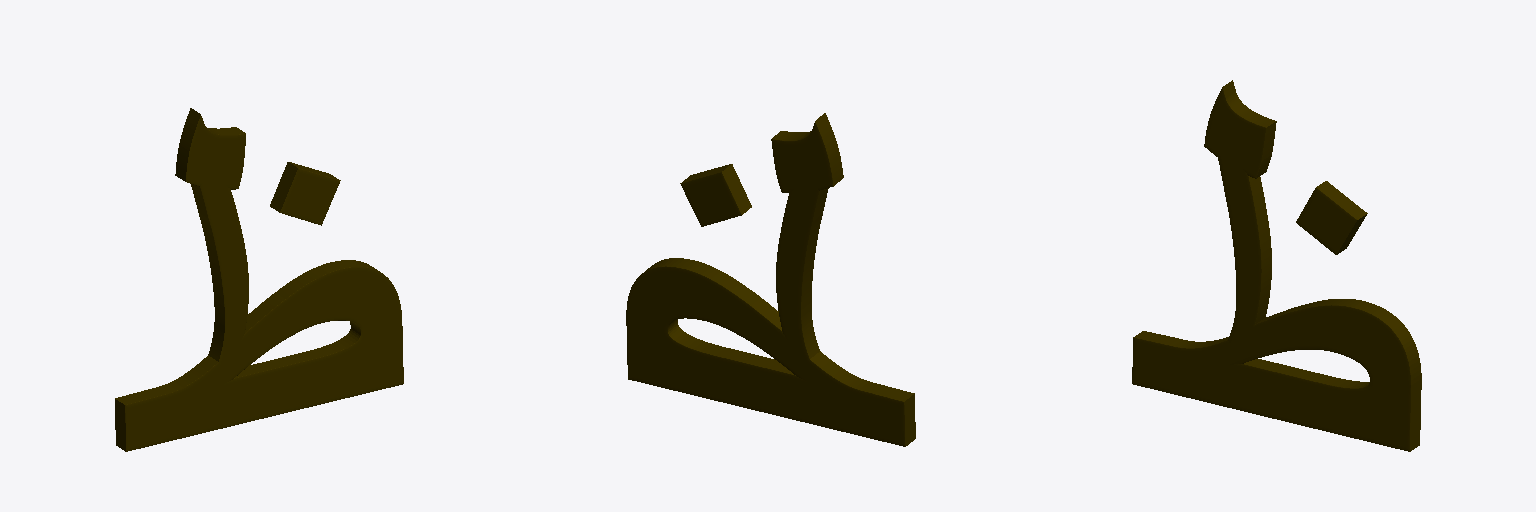
The model's file is Dzho.obj.
3 renders of one model, left to right at view 1: azimuth 30°, elevation 25°; view 2: azimuth 150°, elevation 25°; view 3: azimuth 330°, elevation 25°, orthographic.
Parts seen in each view (by area): view 1: Curve.016; view 2: Curve.016; view 3: Curve.016.
Boxes of the visible parts, box(x1,y1,x2,y2) form: Curve.016: box(115, 108, 403, 451); Curve.016: box(626, 113, 915, 446); Curve.016: box(1132, 80, 1421, 451).
Size of the model in its own units: 4.06 by 4.37 by 0.4665.